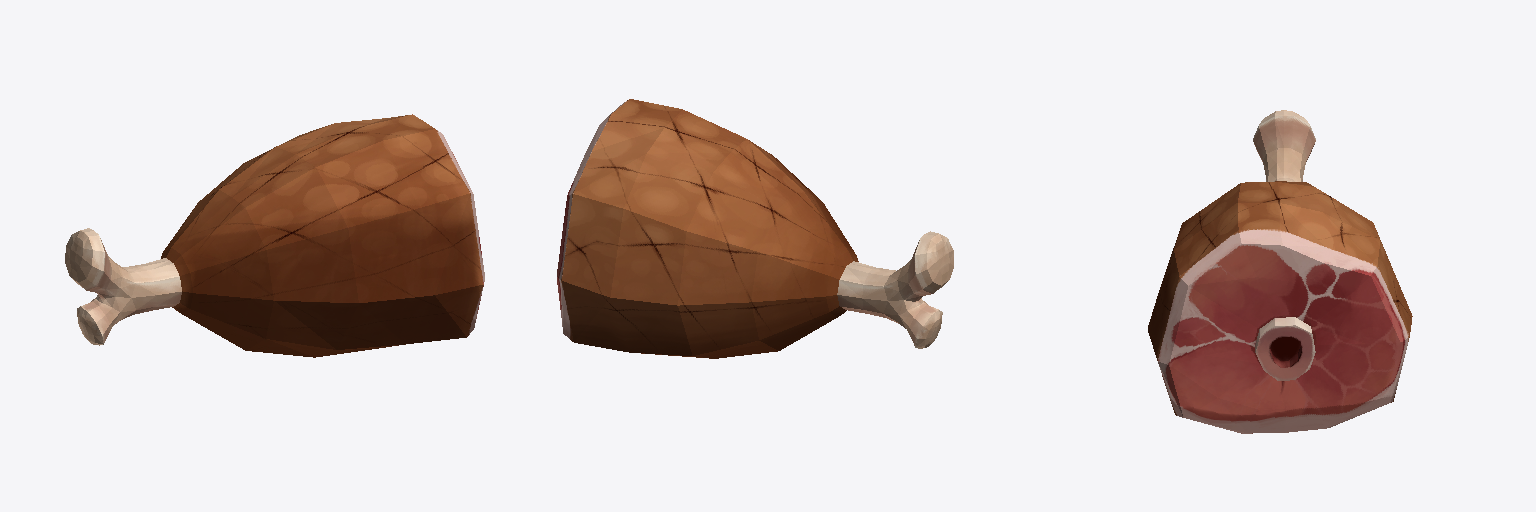
3 renders of one model, left to right at view 1: azimuth 30°, elevation 25°; view 2: azimuth 150°, elevation 25°; view 3: azimuth 270°, elevation 25°, orthographic.
Visible parts, largest first — view 1: Cylinder; view 2: Cylinder; view 3: Cylinder.
Part boxes in pixels (x1,y1,x2,y2): Cylinder: (65, 114, 484, 357); Cylinder: (557, 99, 953, 358); Cylinder: (1148, 110, 1412, 433).
Bounding box in the file's own units: 3.14 × 1.76 × 2.01.
1 materials, 1 textured.